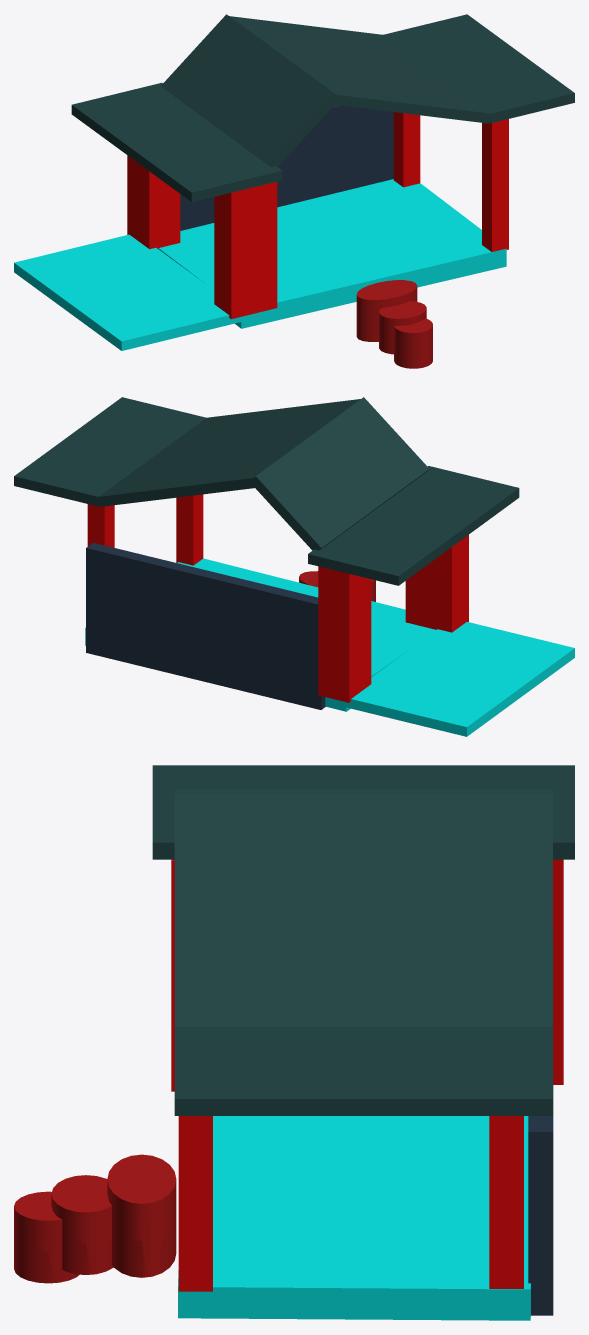
File: Dojo.fbx
3 renders of one model, top to bottom at view 1: azimuth 30°, elevation 25°; view 2: azimuth 150°, elevation 25°; view 3: azimuth 270°, elevation 25°, orthographic. The views are drawn at different scales.
Parts seen in each view (by area): view 1: pCube1, pCube8, pCube11, pCube7, pCube6, pCube12, pCube2, pCube10, pCube9, pCube3, pCube5, pCylinder3 (+3 smaller); view 2: pCube12, pCube8, pCube11, pCube7, pCube6, pCube3, pCube10, pCube9, pCube2, pCube1, pCube5, pCube4; view 3: pCube1, pCube10, pCube9, pCube6, pCube7, pCylinder3, pCube5, pCube4, pCube12, pCylinder2, pCylinder1, pCube3 (+2 smaller).
Part boxes in pixels (left/top/right/bottom): pCube1: left=158, top=179, right=506, bottom=328; pCube8: left=14, top=234, right=243, bottom=350; pCube11: left=161, top=14, right=339, bottom=167; pCube7: left=71, top=82, right=282, bottom=202; pCube6: left=383, top=14, right=574, bottom=123; pCube12: left=180, top=105, right=393, bottom=230; pCube2: left=214, top=181, right=277, bottom=319; pCube10: left=229, top=16, right=413, bottom=113; pCube9: left=307, top=25, right=492, bottom=123; pCube3: left=127, top=155, right=180, bottom=249; pCube5: left=482, top=119, right=508, bottom=251; pCylinder3: left=356, top=280, right=417, bottom=341; pCube12: left=86, top=542, right=325, bottom=709; pCube8: left=344, top=622, right=574, bottom=736; pCube11: left=250, top=397, right=429, bottom=550; pCube7: left=308, top=466, right=519, bottom=585; pCube6: left=14, top=397, right=205, bottom=506; pCube3: left=318, top=566, right=371, bottom=702; pCube10: left=175, top=399, right=360, bottom=497; pCube9: left=98, top=408, right=282, bottom=506; pCube2: left=405, top=535, right=468, bottom=632; pCube1: left=85, top=558, right=435, bottom=711; pCube5: left=176, top=494, right=203, bottom=565; pCube4: left=87, top=504, right=114, bottom=547; pCube1: left=178, top=1116, right=530, bottom=1320; pCube10: left=174, top=794, right=552, bottom=911; pCube9: left=174, top=911, right=552, bottom=1026; pCube6: left=174, top=1027, right=552, bottom=1115; pCube7: left=152, top=765, right=574, bottom=859; pCylinder3: left=107, top=1154, right=176, bottom=1277; pCube5: left=178, top=1116, right=212, bottom=1291; pCube4: left=489, top=1116, right=523, bottom=1288; pCube12: left=528, top=931, right=553, bottom=1315; pCylinder2: left=51, top=1175, right=113, bottom=1274; pCylinder1: left=14, top=1191, right=79, bottom=1283; pCube3: left=553, top=859, right=563, bottom=1084.
Size of the model in its own units: 26.55 by 14.13 by 16.24.
